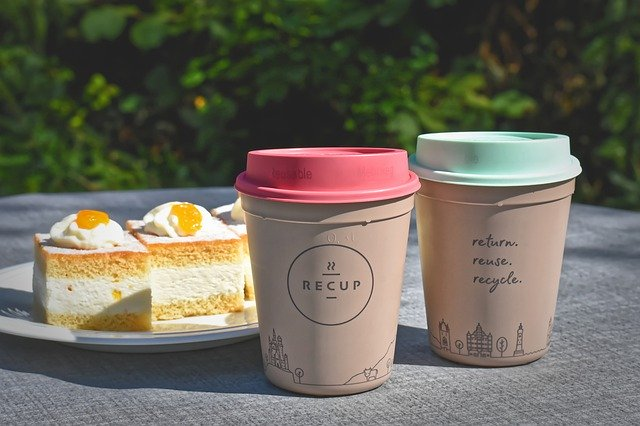cup: (232, 140, 424, 403), (408, 126, 588, 380)
